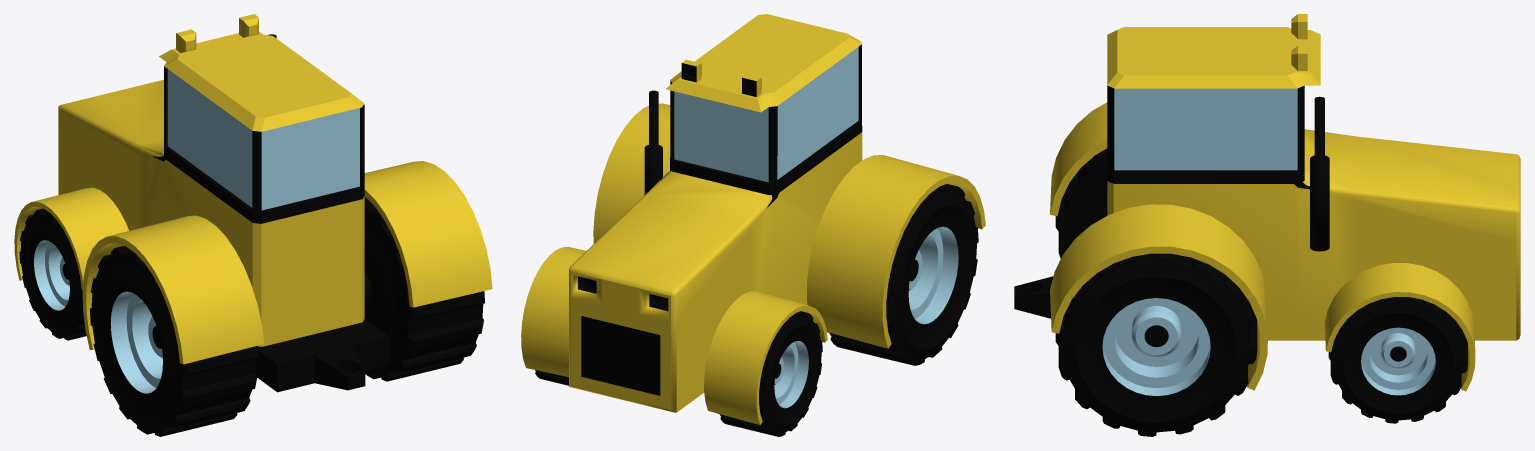
File: tractor.fbx
The picture shows the model from 3 angles, left to right: view 1: azimuth 30°, elevation 25°; view 2: azimuth 150°, elevation 25°; view 3: azimuth 270°, elevation 25°; orthographic projection. The views are drawn at different scales.
Visible parts, largest first — view 1: Cube, Cube.004, Cube.003; view 2: Cube, Cube.003, Cube.004; view 3: Cube.
Part boxes in pixels (x1,y1,x2,y2): Cube: (58,14,492,436); Cube.004: (19,208,86,340); Cube.003: (14,187,128,289); Cube: (521,14,985,412); Cube.003: (704,291,827,424); Cube.004: (718,311,822,436); Cube: (1014,14,1520,436).
Bounding box in the file's own units: 323 × 314 × 438.
